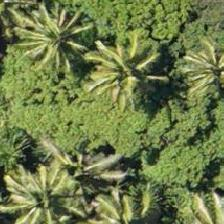coconut_tree: (78, 19, 168, 109), (11, 0, 101, 81), (0, 153, 85, 223), (79, 163, 169, 223), (174, 25, 223, 115)
